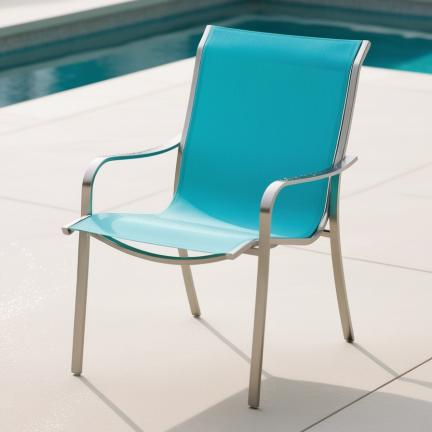empty chair: (62, 25, 370, 407)
